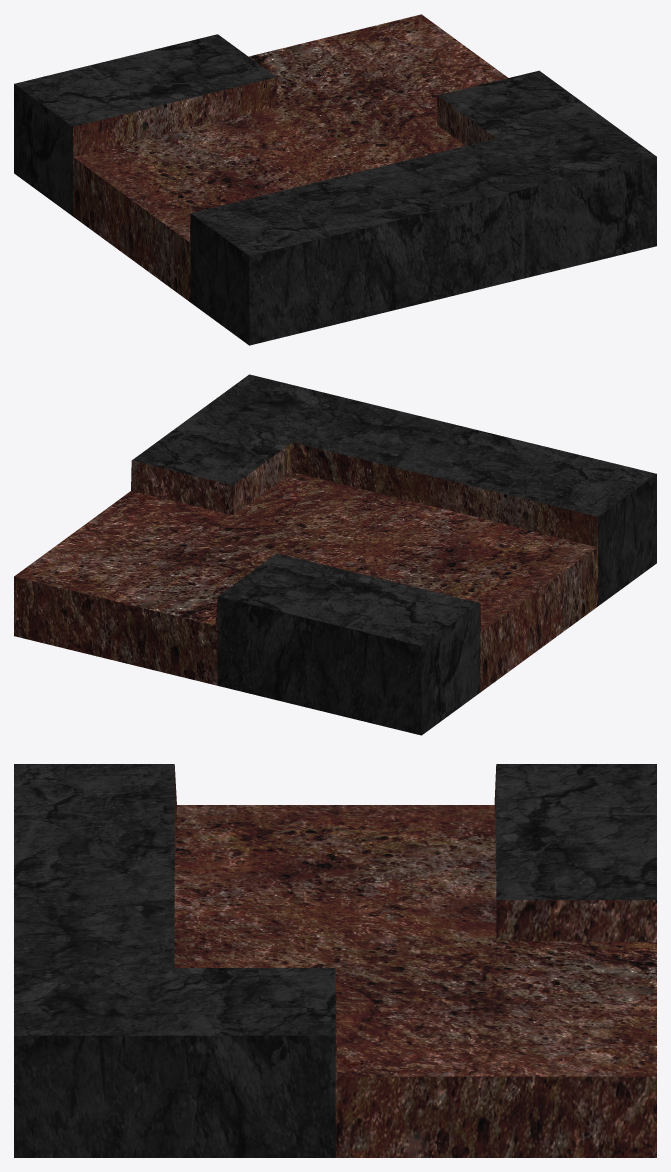
The model's file is EnemyPath21.fbx.
3 views of the same model, one above another, from view 1: azimuth 30°, elevation 25°; view 2: azimuth 150°, elevation 25°; view 3: azimuth 270°, elevation 25° (orthographic). The views are drawn at different scales.
Parts seen in each view (by area): view 1: EnemyPath21; view 2: EnemyPath21; view 3: EnemyPath21.
Boxes of the visible parts, x1,y1,x2,y2 form: EnemyPath21: (14,14,656,345); EnemyPath21: (14,374,656,735); EnemyPath21: (14,764,656,1157).
Size of the model in its own units: 100 by 20.97 by 100.
Materials: 2 (2 with a texture image).
